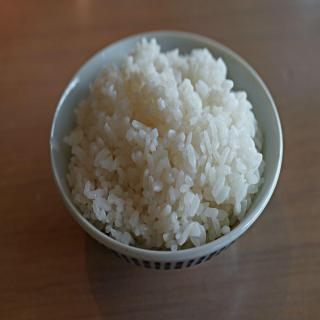Nasi: (63, 36, 268, 253)
